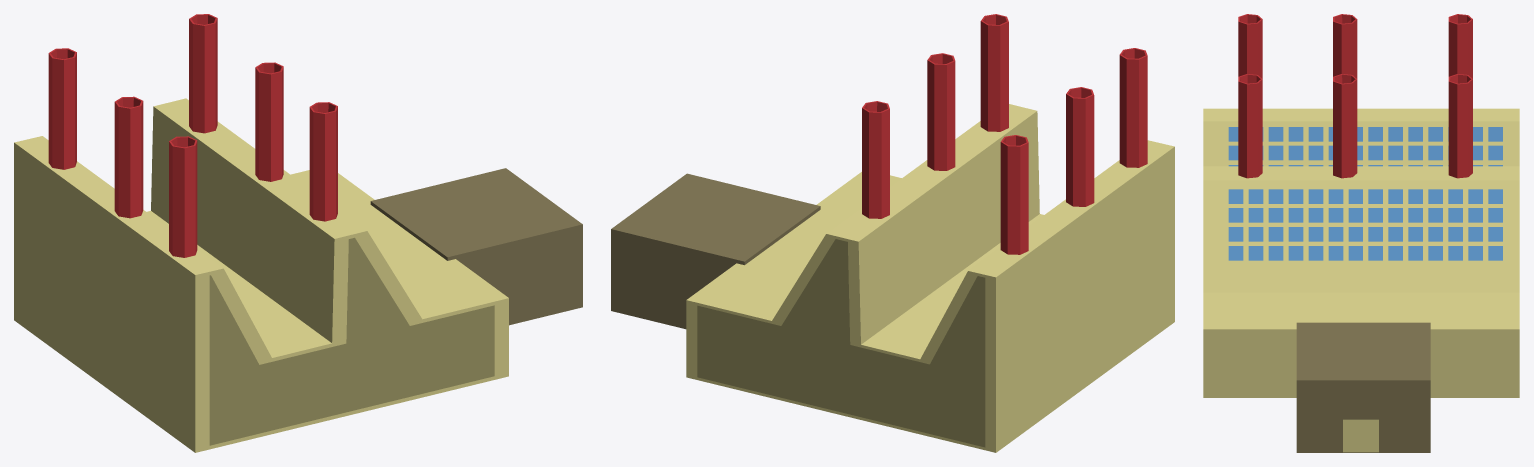
The model's file is Maquilon.dae.
3 views of the same model, side by side, from view 1: azimuth 30°, elevation 25°; view 2: azimuth 150°, elevation 25°; view 3: azimuth 270°, elevation 25° (orthographic). The views are drawn at different scales.
Parts seen in each view (by area): view 1: Cube, Cube_001, Cylinder_005, Cylinder_004, Cylinder, Cylinder_006, Cylinder_003, Cylinder_001; view 2: Cube, Cube_001, Cylinder_004, Cylinder, Cylinder_005, Cylinder_003, Cylinder_006, Cylinder_001; view 3: Cube, Cube_001, Plane, Plane_001, Cylinder_003, Cylinder_001, Cylinder_006, Cylinder_005, Cylinder, Cylinder_004, Plane_005.
Boxes of the visible parts, box(x1,y1,x2,y2) form: Cube: box(14, 98, 508, 452); Cube_001: box(370, 168, 582, 325); Cylinder_005: box(114, 96, 143, 218); Cylinder_004: box(169, 136, 197, 257); Cylinder: box(48, 48, 76, 169); Cylinder_006: box(255, 62, 283, 181); Cylinder_003: box(309, 102, 337, 221); Cylinder_001: box(189, 14, 217, 133); Cube: box(686, 104, 1174, 452); Cube_001: box(611, 173, 820, 329); Cylinder_004: box(1119, 48, 1147, 167); Cylinder: box(1000, 135, 1028, 254); Cylinder_005: box(1066, 87, 1094, 206); Cylinder_003: box(980, 14, 1008, 131); Cylinder_006: box(927, 53, 955, 170); Cylinder_001: box(862, 101, 889, 218); Cube: box(1203, 108, 1519, 397); Cube_001: box(1296, 322, 1430, 452); Plane: box(1228, 189, 1502, 260); Plane_001: box(1228, 127, 1502, 166); Cylinder_003: box(1238, 74, 1262, 178); Cylinder_001: box(1448, 74, 1472, 178); Cylinder_006: box(1333, 74, 1357, 178); Cylinder_005: box(1333, 14, 1357, 78); Cylinder: box(1448, 14, 1472, 78); Cylinder_004: box(1238, 14, 1262, 78); Plane_005: box(1343, 419, 1378, 452).
Size of the model in its own units: 17.78 by 12.63 by 11.1.
